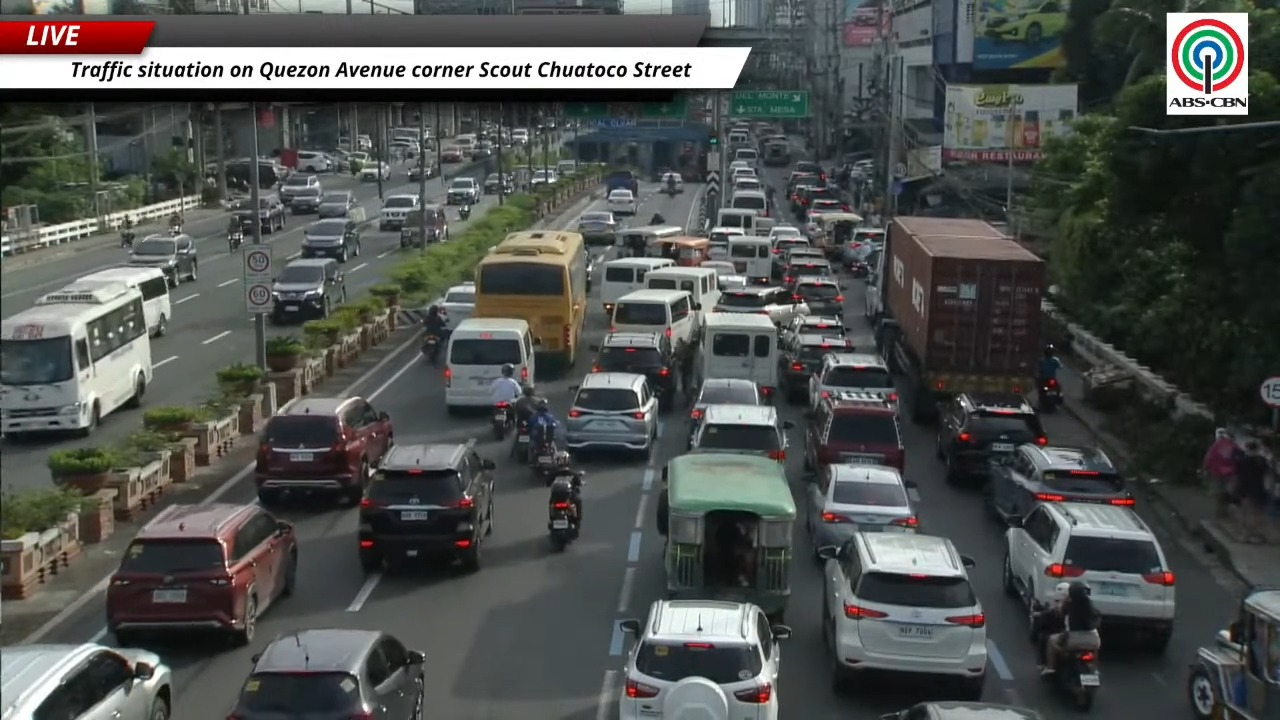bus: (0, 284, 153, 436), (473, 230, 587, 366), (37, 266, 172, 337)
car: (818, 532, 987, 699), (106, 503, 297, 646), (1002, 502, 1175, 652), (619, 600, 790, 719), (230, 628, 426, 719), (357, 441, 494, 571), (254, 396, 393, 504), (0, 643, 173, 719), (985, 443, 1134, 518), (805, 463, 918, 552), (936, 392, 1047, 482), (805, 391, 904, 471), (564, 372, 658, 456), (591, 332, 677, 410), (689, 404, 793, 462), (809, 352, 897, 410), (779, 333, 850, 403), (271, 258, 346, 323), (982, 0, 1066, 46), (713, 286, 807, 325), (127, 234, 197, 286), (690, 378, 762, 420), (882, 700, 1041, 719), (300, 218, 360, 262), (788, 275, 844, 317), (771, 237, 824, 281), (233, 195, 285, 236), (400, 204, 449, 247), (433, 282, 475, 326), (783, 253, 834, 288), (772, 236, 824, 268), (780, 314, 848, 337), (378, 194, 420, 230), (577, 211, 618, 244), (277, 173, 320, 204), (317, 191, 357, 218), (789, 177, 815, 218), (289, 185, 322, 214), (446, 178, 480, 205), (295, 151, 335, 173), (606, 189, 637, 215), (792, 162, 826, 183), (388, 138, 420, 159), (359, 161, 392, 181), (407, 160, 438, 181), (483, 172, 513, 193), (769, 225, 802, 241), (732, 176, 764, 192), (530, 168, 558, 186), (347, 148, 371, 167), (659, 173, 683, 192), (469, 141, 493, 160), (440, 146, 465, 163), (730, 167, 758, 182), (556, 160, 578, 176)
motorcycle: (1042, 647, 1100, 710), (1044, 649, 1100, 710), (548, 468, 583, 550), (527, 441, 559, 484), (1037, 378, 1063, 413), (491, 402, 512, 441), (512, 419, 529, 462), (421, 333, 441, 365), (228, 231, 243, 252), (121, 230, 135, 247), (168, 221, 182, 235), (459, 205, 470, 220), (665, 183, 677, 196)
truck: (876, 216, 1046, 422), (604, 170, 637, 196)
